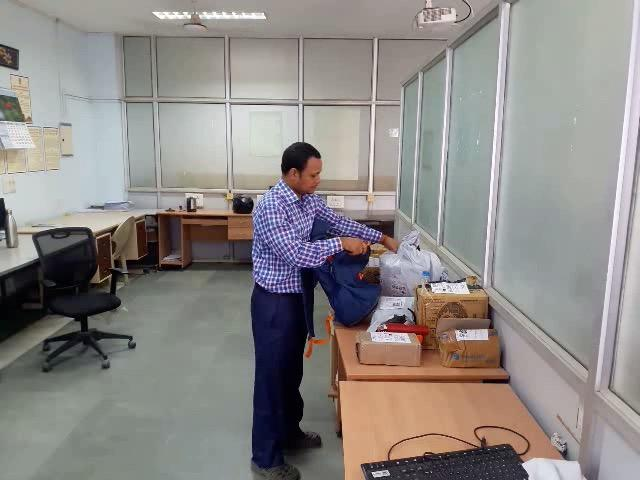shoplifting: (247, 201, 462, 326)
